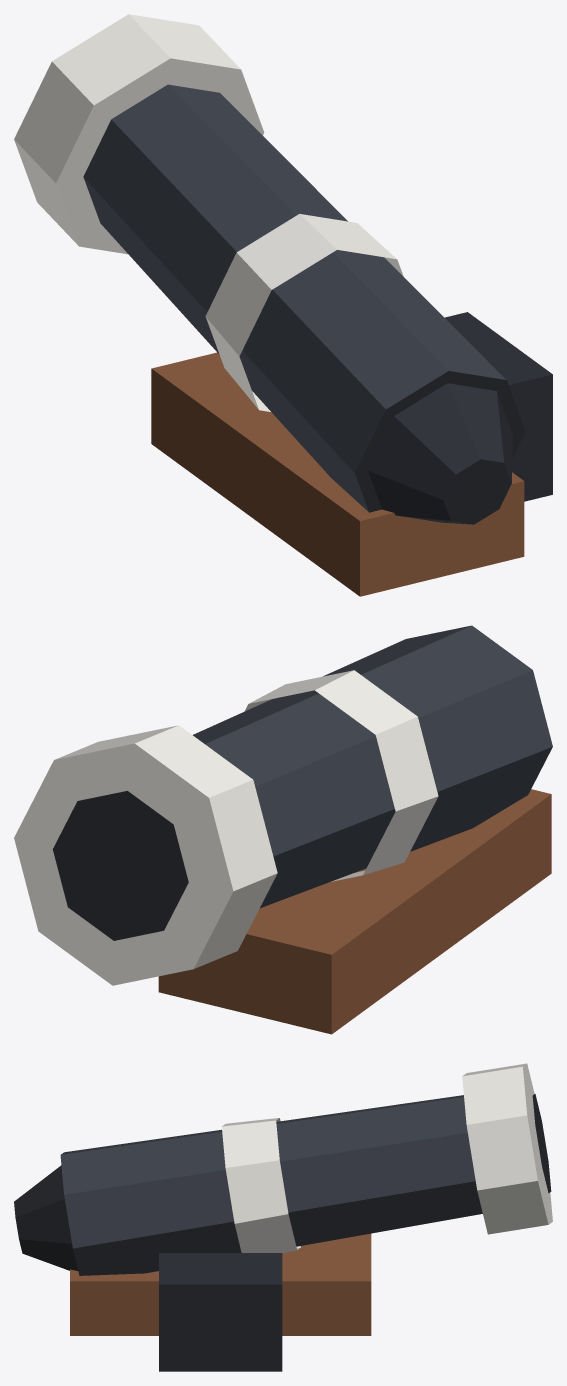
The model's file is G_Topik_1.fbx.
3 renders of one model, top to bottom at view 1: azimuth 30°, elevation 25°; view 2: azimuth 150°, elevation 25°; view 3: azimuth 270°, elevation 25°, orthographic. The views are drawn at different scales.
Parts seen in each view (by area): view 1: G_Topik_1; view 2: G_Topik_1; view 3: G_Topik_1.
Boxes of the visible parts, <box> form: G_Topik_1: <box>14,14,552,596</box>; G_Topik_1: <box>14,625,552,1034</box>; G_Topik_1: <box>14,1063,552,1371</box>.
Bounding box in the file's own units: 0.1937 × 0.2263 × 0.4528.
